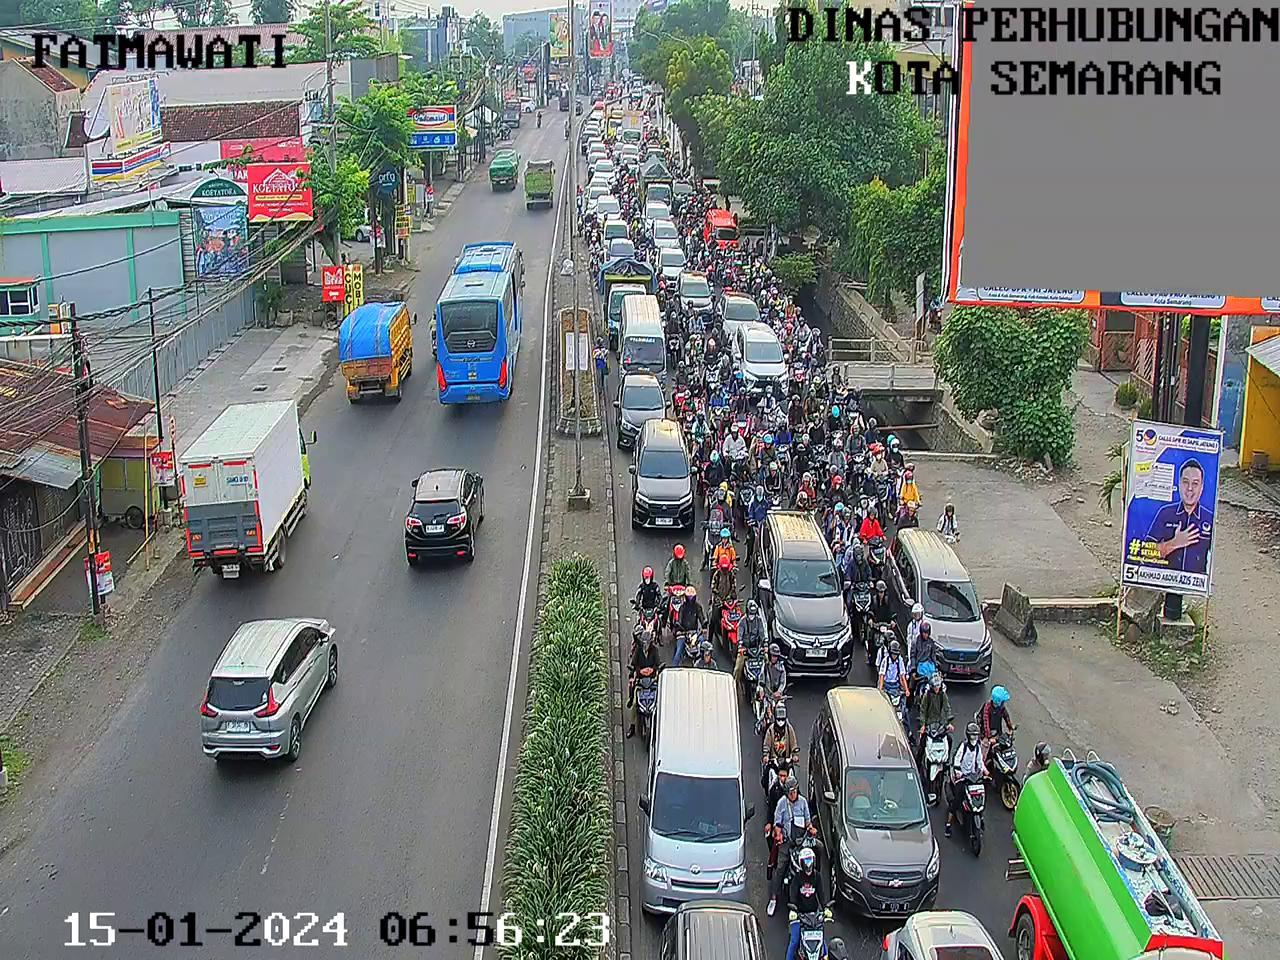car: (811, 686, 946, 920), (635, 664, 755, 919), (740, 500, 867, 690), (882, 521, 997, 684), (633, 419, 700, 539), (657, 889, 768, 960), (879, 903, 1007, 960), (611, 295, 672, 377), (731, 323, 794, 400), (616, 373, 668, 451), (675, 265, 720, 325), (716, 289, 764, 338), (702, 208, 739, 249), (651, 246, 685, 284), (587, 190, 622, 217), (645, 222, 680, 248), (599, 239, 636, 260), (641, 201, 677, 222), (587, 175, 615, 199), (618, 139, 640, 161), (591, 158, 613, 177), (582, 128, 598, 153), (645, 139, 668, 155), (676, 179, 691, 204), (586, 144, 606, 158), (608, 115, 623, 130), (587, 128, 598, 146), (590, 103, 603, 117), (611, 101, 626, 112), (589, 115, 598, 126), (630, 88, 641, 96)
motorcycle: (761, 764, 825, 921), (974, 681, 1027, 811), (944, 720, 993, 859), (783, 844, 835, 960), (624, 625, 669, 746), (914, 668, 952, 801), (759, 698, 806, 791), (709, 556, 746, 668), (841, 541, 882, 640), (737, 597, 771, 710), (864, 580, 904, 675), (873, 628, 912, 722), (758, 639, 793, 735), (660, 541, 696, 633), (851, 492, 890, 575), (700, 480, 736, 572), (906, 599, 941, 685), (671, 585, 709, 666), (820, 501, 862, 569), (865, 441, 893, 521), (634, 563, 662, 634), (744, 483, 767, 569), (703, 523, 741, 576), (845, 425, 869, 501), (730, 451, 757, 517), (1022, 729, 1056, 781), (722, 423, 749, 483), (935, 498, 969, 539), (746, 407, 771, 461), (897, 459, 927, 503), (817, 464, 849, 505), (805, 349, 830, 399), (773, 442, 795, 496), (891, 503, 929, 533), (664, 311, 684, 368), (757, 433, 778, 486), (683, 331, 703, 386), (673, 360, 691, 417), (794, 467, 827, 498), (887, 434, 905, 490), (789, 339, 807, 393), (845, 386, 867, 430), (582, 238, 603, 283), (773, 421, 792, 470), (703, 337, 721, 390), (692, 402, 708, 463), (802, 322, 827, 358), (692, 410, 709, 467), (777, 319, 798, 360), (679, 391, 695, 444), (765, 460, 782, 507), (791, 431, 812, 468), (803, 389, 824, 426), (804, 358, 825, 393), (756, 384, 778, 417), (710, 385, 724, 437), (811, 413, 825, 465), (820, 937, 852, 960), (865, 417, 888, 449), (725, 360, 748, 391), (693, 638, 720, 666), (782, 490, 814, 511), (734, 385, 753, 421), (823, 401, 843, 437), (703, 450, 725, 481), (686, 377, 707, 409), (698, 263, 717, 298), (788, 393, 807, 427), (718, 391, 737, 424), (771, 395, 788, 430), (757, 287, 773, 324), (830, 366, 844, 402), (655, 266, 666, 309), (781, 295, 800, 319), (589, 214, 599, 254), (695, 243, 710, 270), (713, 249, 731, 270), (828, 439, 844, 463), (719, 269, 737, 289), (737, 265, 752, 289), (720, 352, 730, 385), (571, 183, 583, 210), (575, 206, 586, 235), (686, 307, 703, 324), (772, 283, 780, 318), (635, 234, 647, 256), (675, 221, 688, 241), (631, 211, 642, 234), (709, 311, 723, 329), (679, 204, 693, 222), (689, 220, 701, 241), (752, 259, 760, 290), (620, 194, 631, 216), (670, 293, 680, 318), (669, 153, 680, 174), (706, 189, 718, 206), (735, 247, 747, 263), (630, 181, 639, 202), (763, 267, 772, 286), (585, 211, 590, 244), (618, 178, 628, 194), (619, 163, 629, 177), (625, 98, 634, 112), (605, 134, 612, 148), (751, 247, 758, 260), (638, 97, 645, 110), (692, 191, 697, 209), (612, 132, 621, 141), (683, 299, 696, 306), (587, 167, 593, 178), (700, 193, 703, 215), (616, 94, 623, 103), (614, 154, 619, 166), (644, 121, 651, 129), (653, 124, 657, 134), (610, 148, 613, 157), (763, 736, 770, 739)
truck: (1005, 760, 1234, 960), (638, 156, 674, 206), (620, 110, 642, 143)
